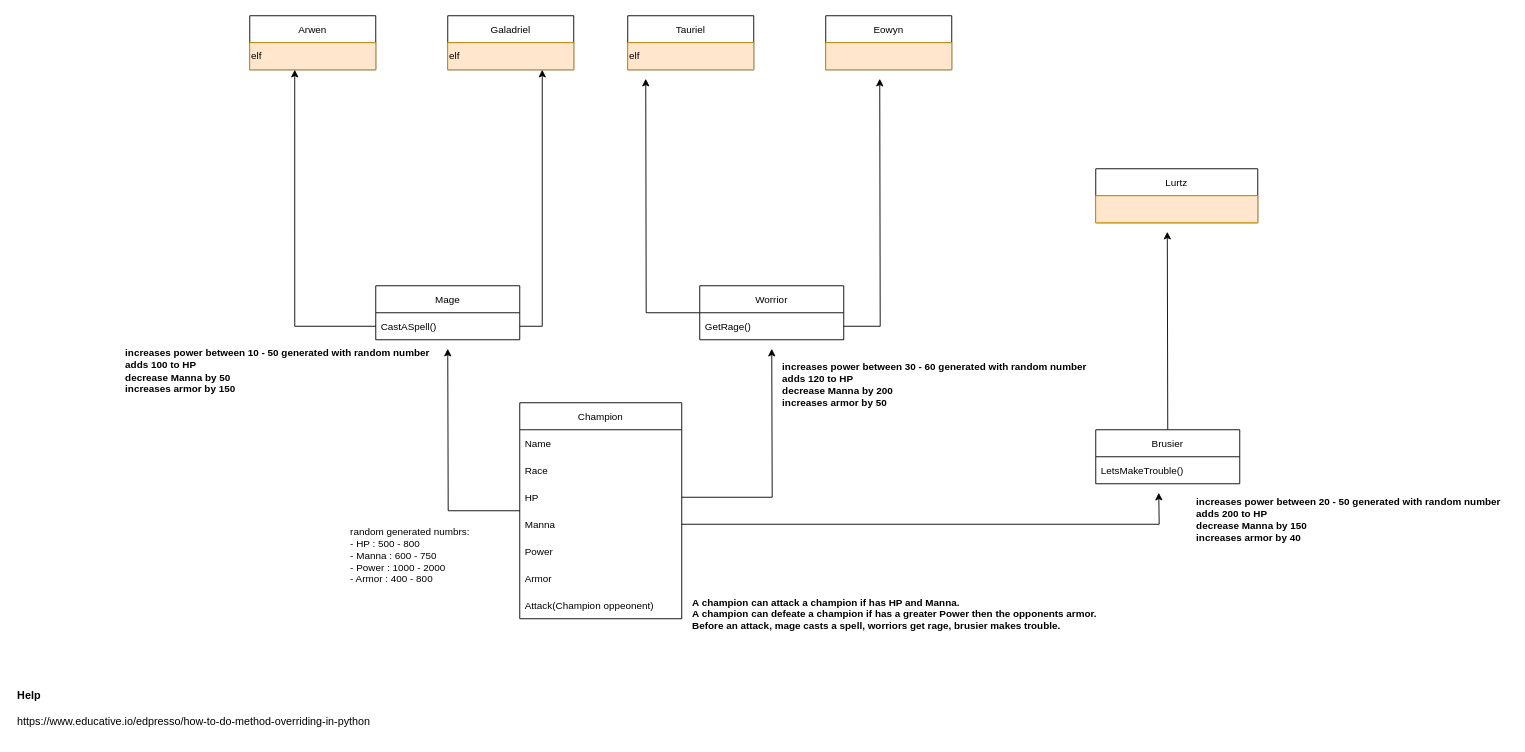
This 1525x752 diagram has some shape labels left out. The shapes that lost their labels are listed below. From the top down, each one's centre as x and y in pixels, then its label:
At point (888, 56): "human".
At point (1176, 209): "orc".
